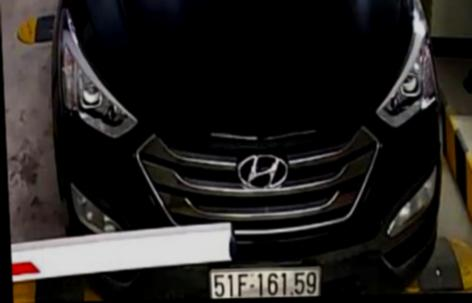License_Plate: (202, 259, 331, 298)
